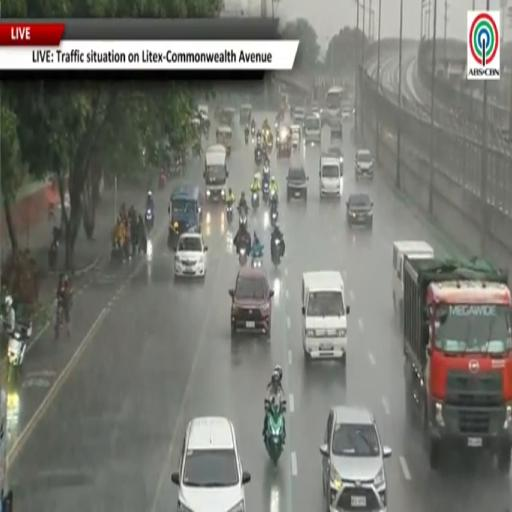car: (320, 406, 391, 511), (171, 418, 250, 511), (230, 266, 273, 338), (174, 233, 208, 278), (346, 194, 373, 229), (286, 166, 308, 201), (355, 150, 374, 180), (327, 146, 343, 165), (293, 107, 305, 124), (342, 104, 354, 120)
motorcycle: (7, 323, 32, 381), (265, 400, 285, 466), (48, 227, 61, 271), (54, 304, 64, 341), (48, 239, 58, 271), (271, 238, 282, 267), (145, 208, 154, 232), (252, 248, 263, 267), (254, 148, 263, 166), (270, 207, 278, 227), (262, 181, 269, 203), (266, 136, 274, 154), (239, 248, 247, 266), (262, 162, 270, 180), (159, 171, 166, 189), (252, 255, 262, 267), (227, 204, 233, 223), (252, 191, 258, 210), (240, 212, 247, 228), (270, 189, 277, 202), (251, 126, 255, 136), (245, 132, 248, 145)
truck: (403, 256, 511, 473), (0, 387, 13, 511)
